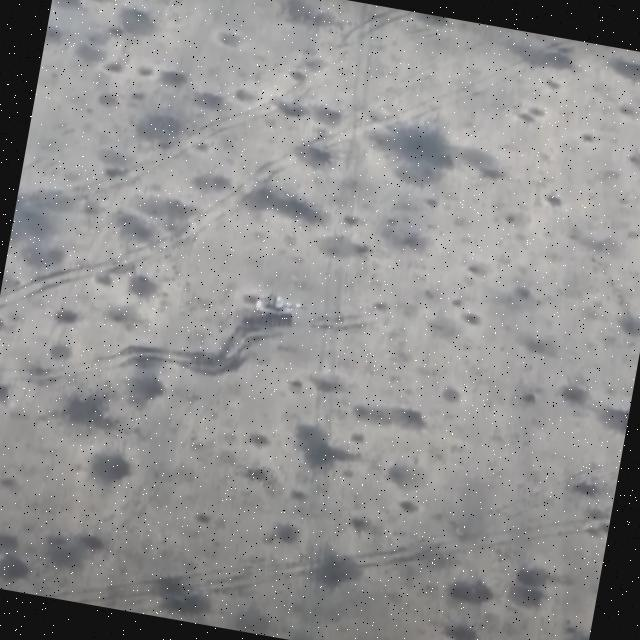MBT: (250, 288, 312, 335)
